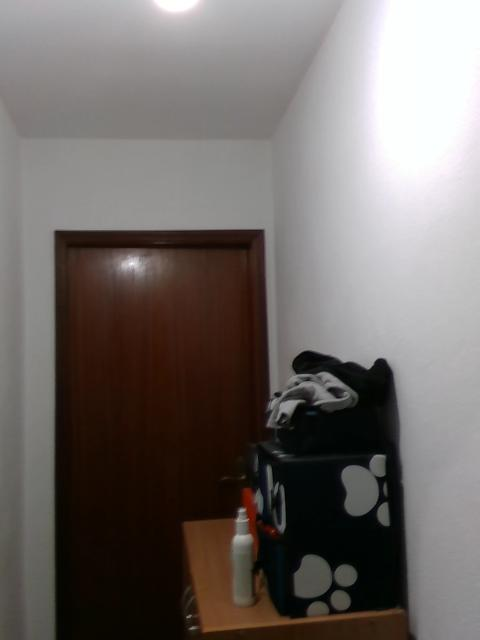door: (47, 225, 265, 639)
